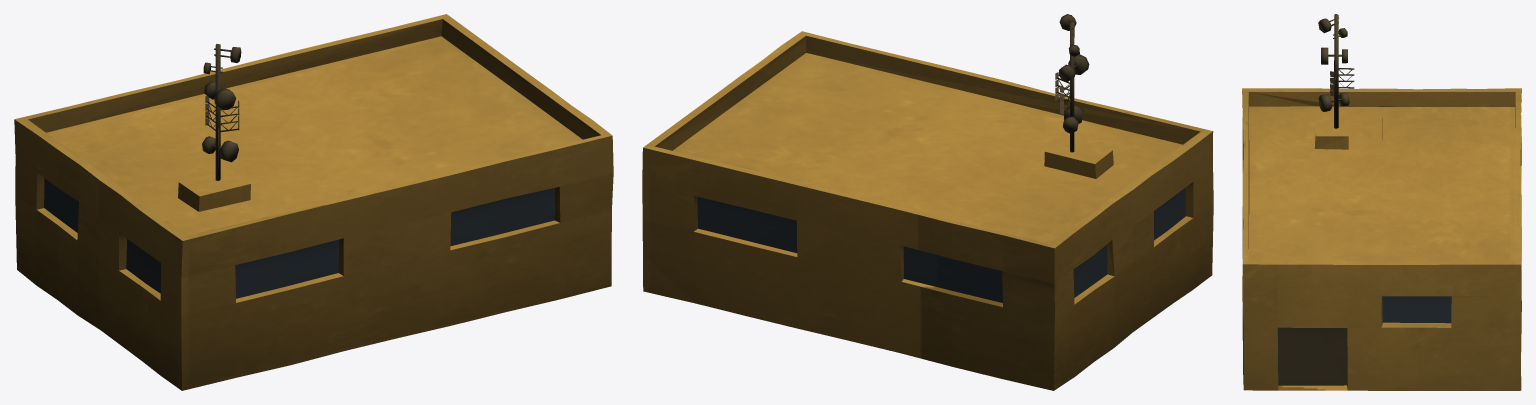
Rendered from building_1.fbx.
The picture shows the model from 3 angles, left to right: view 1: azimuth 30°, elevation 25°; view 2: azimuth 150°, elevation 25°; view 3: azimuth 270°, elevation 25°; orthographic projection. The views are drawn at different scales.
Parts seen in each view (by area): view 1: final; view 2: final; view 3: final.
Part boxes in pixels (x1=…): final: x1=14, y1=14, x2=613, y2=390; final: x1=642, y1=14, x2=1213, y2=390; final: x1=1242, y1=14, x2=1521, y2=390.
Size of the model in its own units: 2.01 by 1.89 by 3.01.
Materials: 1 (1 with a texture image).
